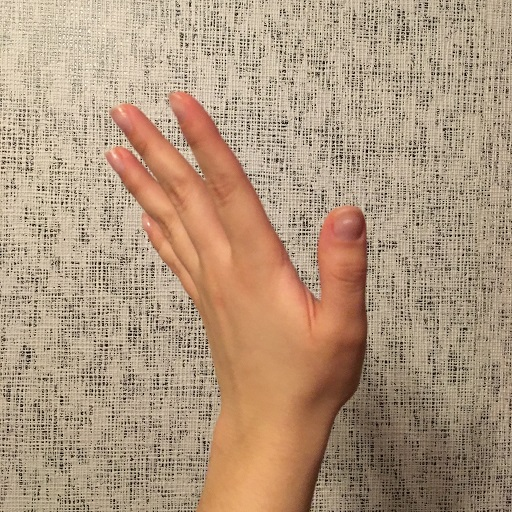hand: (117, 99, 350, 394)
